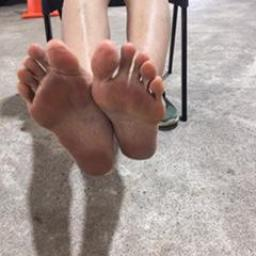Plantar View -Both Feet-: (10, 30, 168, 181)
